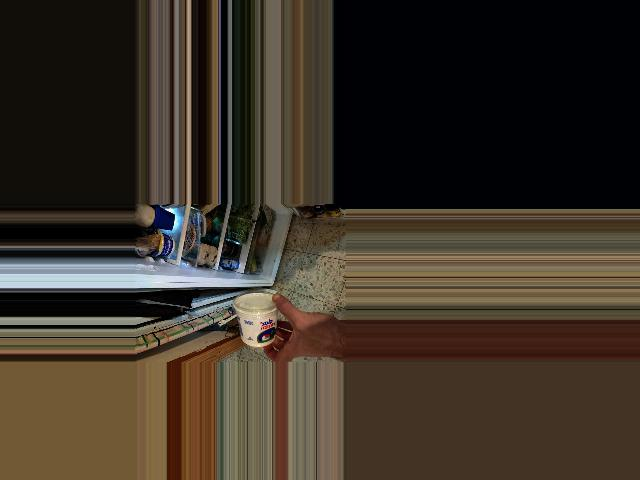cotage: (235, 292, 275, 351)
